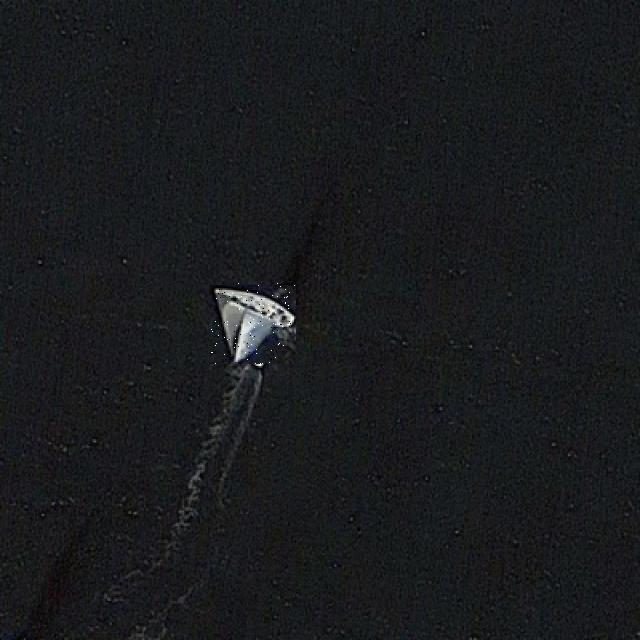boat: (211, 283, 295, 366)
